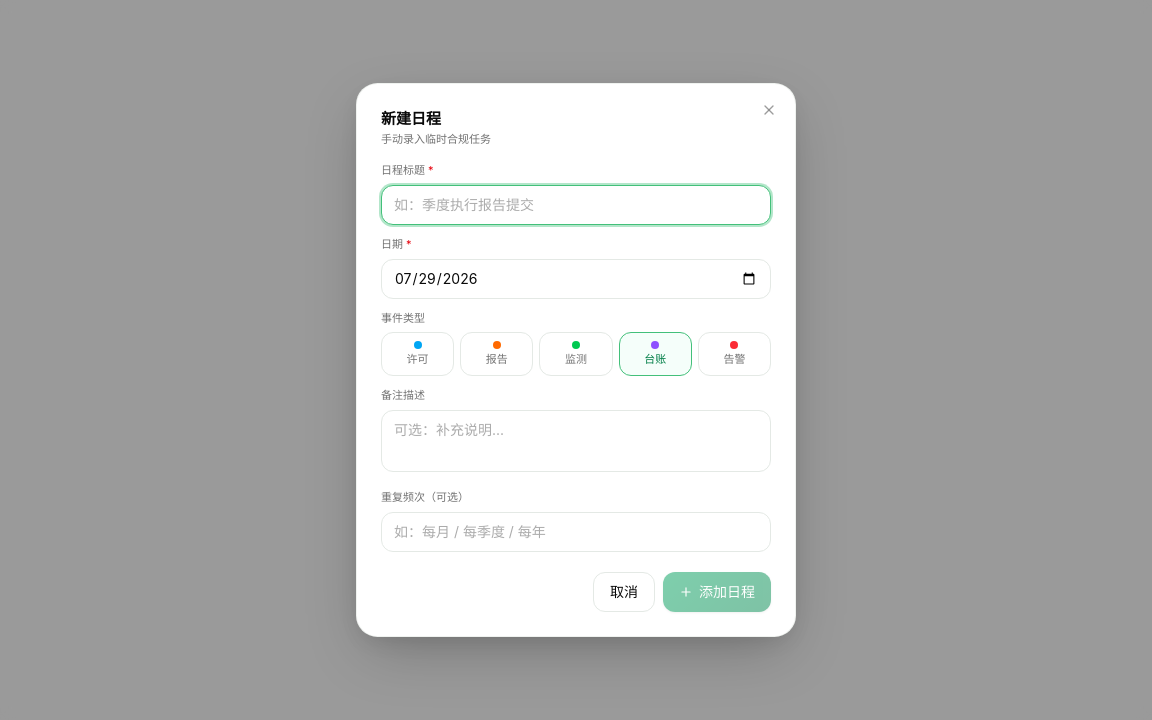
Test: AddEventModal › action buttons › enables submit when title is filled
Type "foo" into the field with placeholder "如：季度执行报告提交". click: (576, 205)
box: [381,185,771,225]
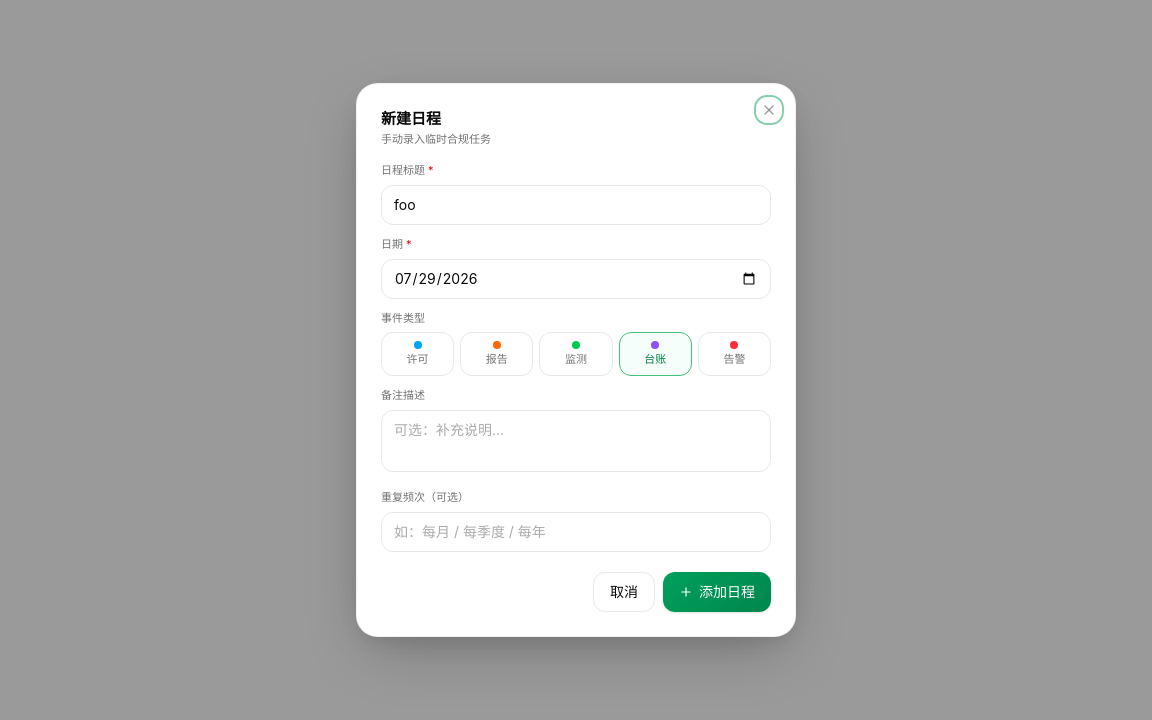
Result: the button "添加日程" is enabled at [663,572,771,612]
